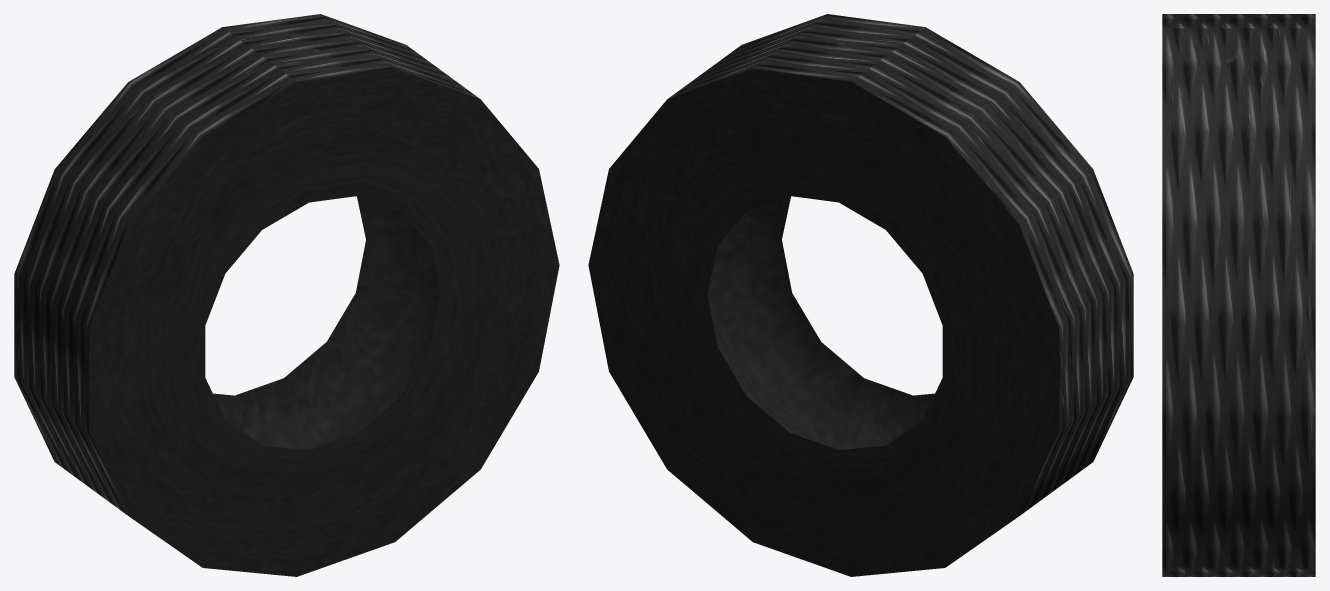
The model's file is Neumatic.fbx.
3 views of the same model, side by side, from view 1: azimuth 30°, elevation 25°; view 2: azimuth 150°, elevation 25°; view 3: azimuth 270°, elevation 25° (orthographic). The views are drawn at different scales.
Parts seen in each view (by area): view 1: pPipe1; view 2: pPipe1; view 3: pPipe1.
Part boxes in pixels (bbox=[...]): pPipe1: bbox=[14, 14, 559, 576]; pPipe1: bbox=[588, 14, 1133, 576]; pPipe1: bbox=[1162, 14, 1315, 576].
Size of the model in its own units: 5.93 by 5.97 by 1.63.
1 material, 1 textured.
